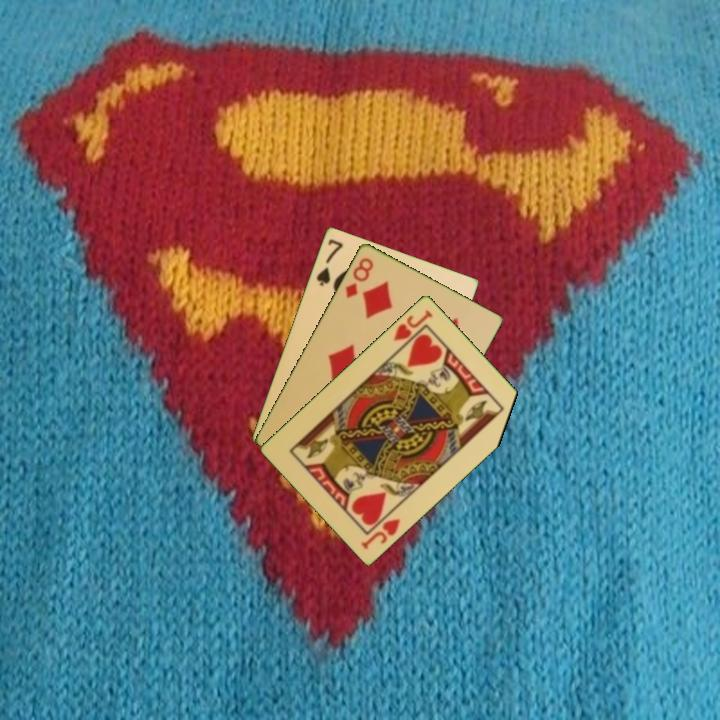7s: (312, 235, 346, 289)
8d: (342, 253, 376, 301)
Jh: (390, 306, 436, 344), (357, 514, 403, 552)
